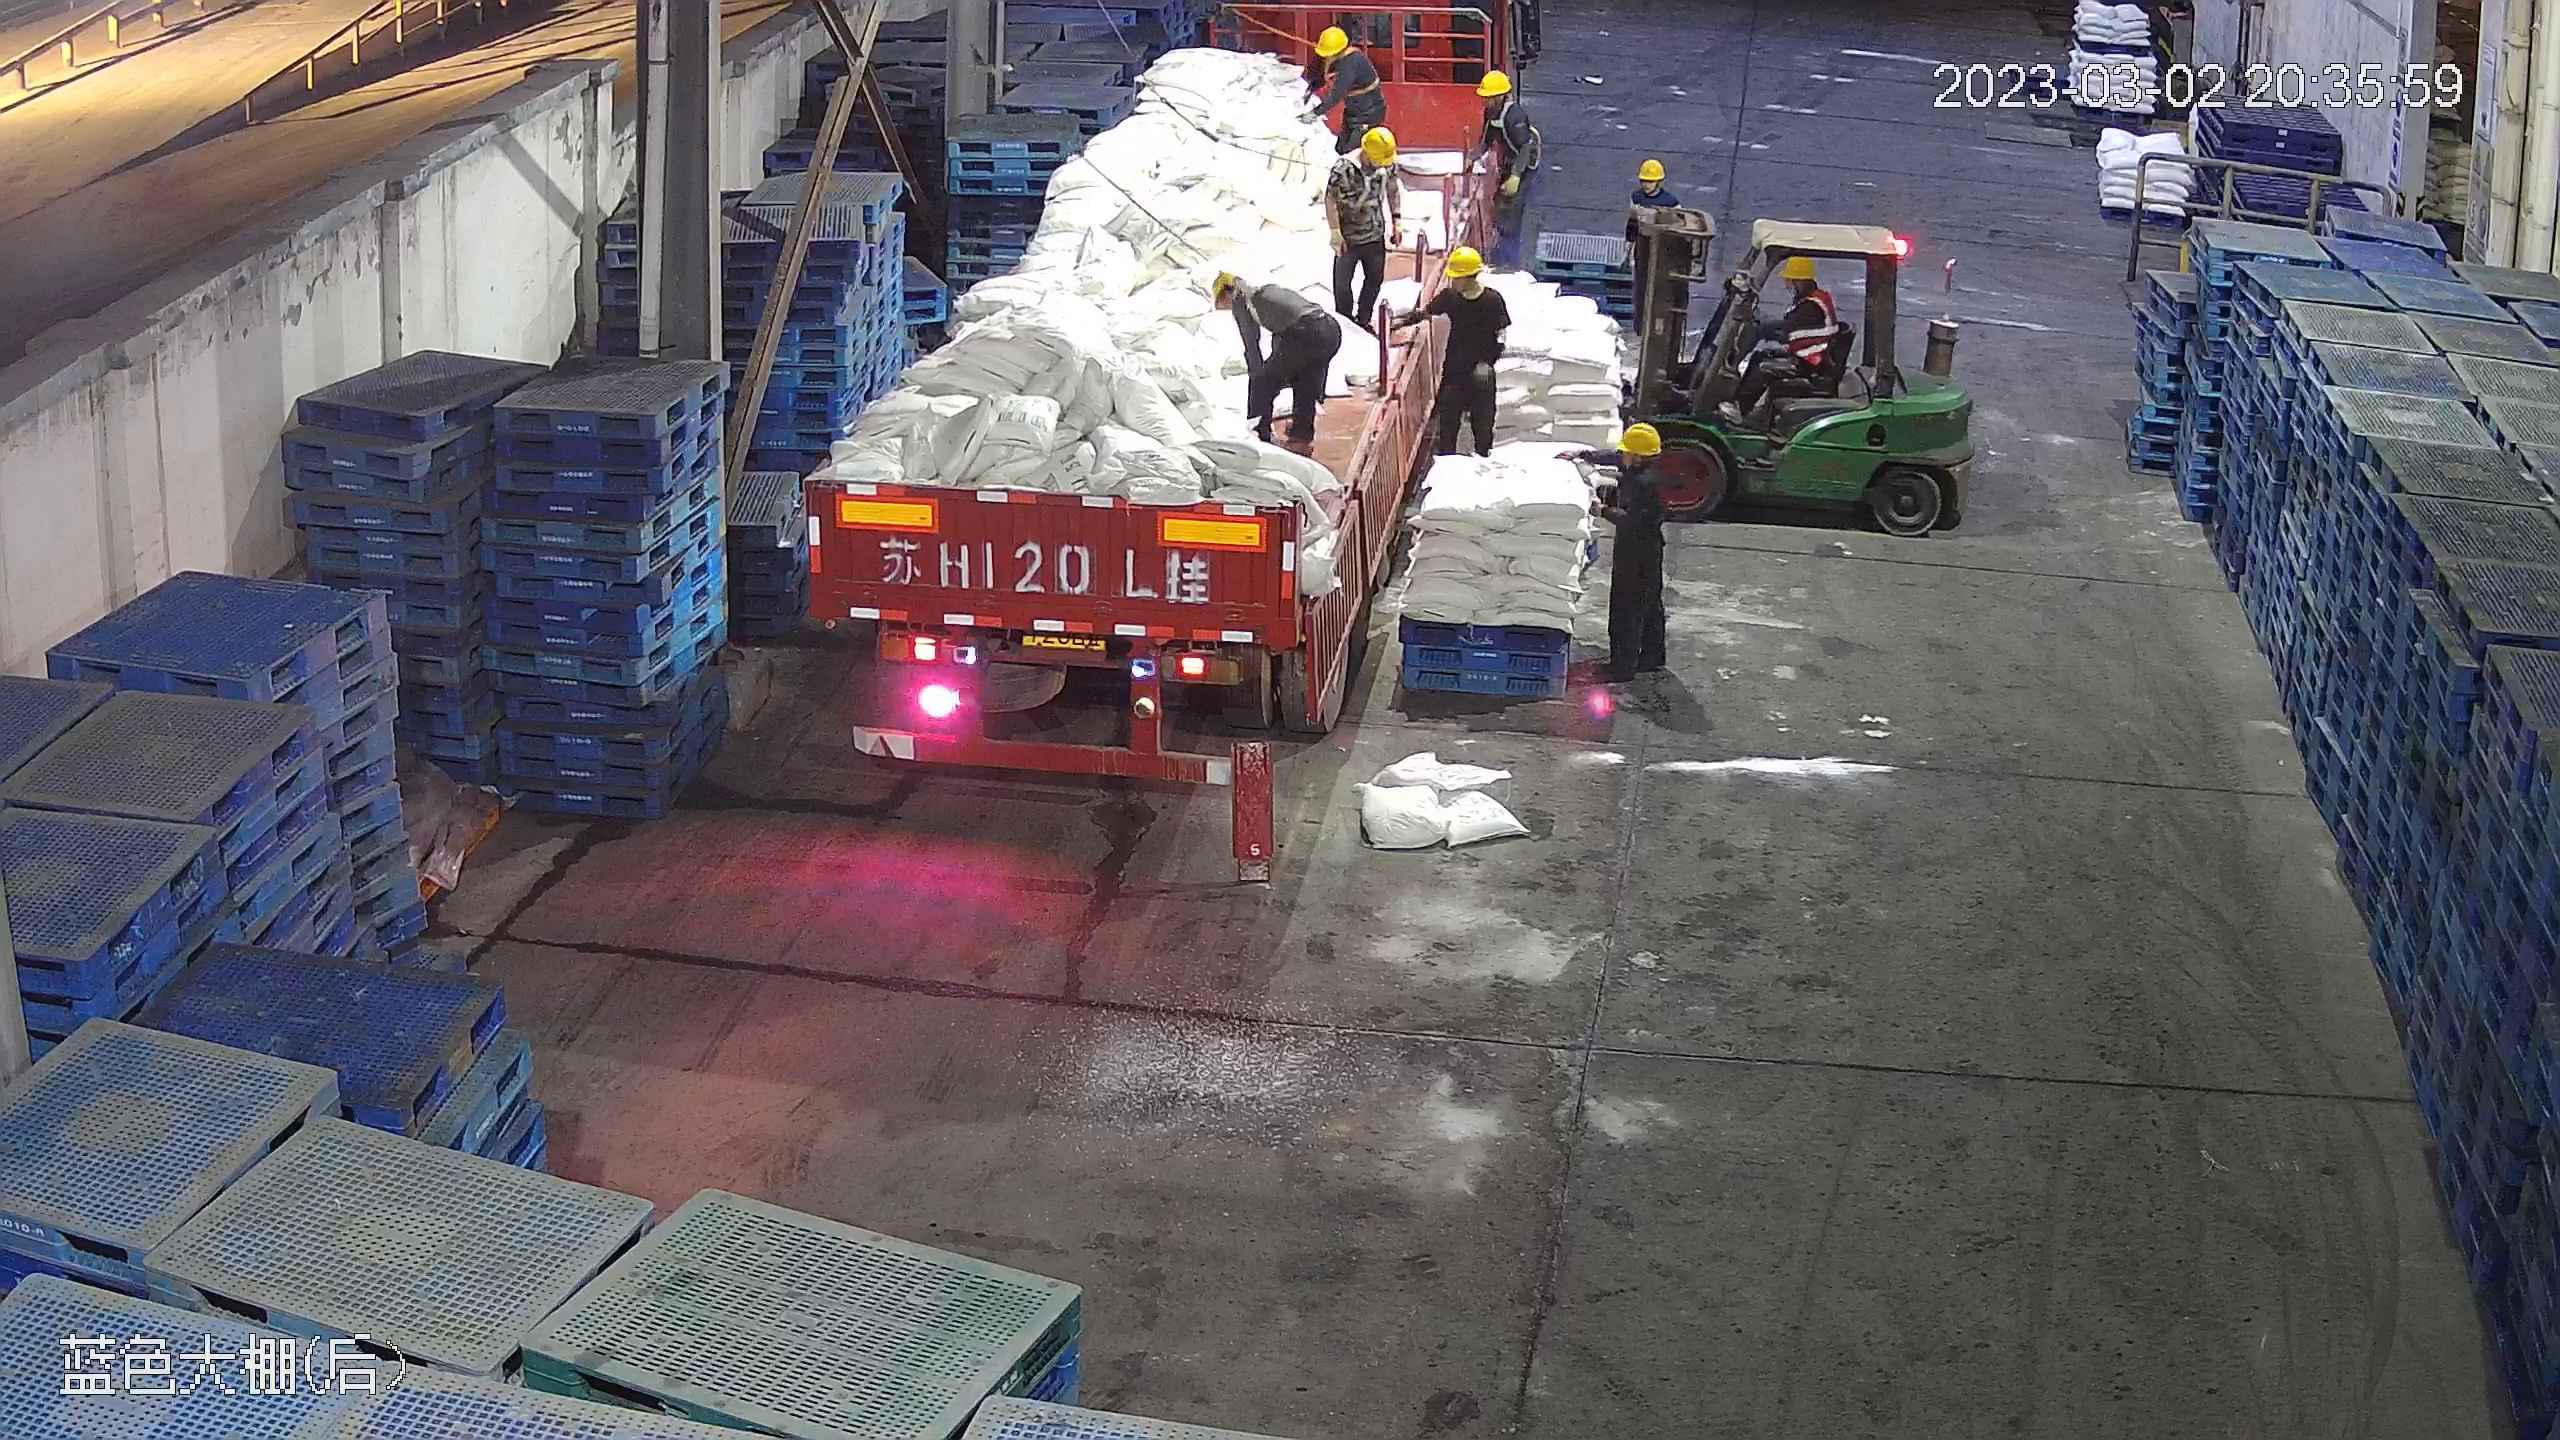belt: (1241, 279, 1308, 331), (1328, 55, 1382, 108), (1341, 162, 1391, 219), (1486, 97, 1520, 145)
head: (1328, 124, 1403, 205), (1431, 245, 1504, 325), (1205, 268, 1289, 334), (1600, 422, 1665, 507), (1774, 256, 1837, 329), (1310, 24, 1378, 89), (1473, 67, 1534, 140), (1628, 156, 1680, 216)
helmet: (1357, 125, 1400, 166), (1615, 421, 1662, 454), (1443, 245, 1485, 279), (1207, 269, 1243, 306), (1312, 23, 1352, 56), (1477, 68, 1515, 95), (1780, 255, 1815, 280), (1638, 157, 1666, 181)
people: (1204, 267, 1346, 451), (1591, 419, 1675, 684), (1409, 245, 1507, 465), (1320, 123, 1406, 335), (1728, 255, 1840, 415), (1467, 69, 1539, 270)
truck: (801, 15, 1479, 781)
